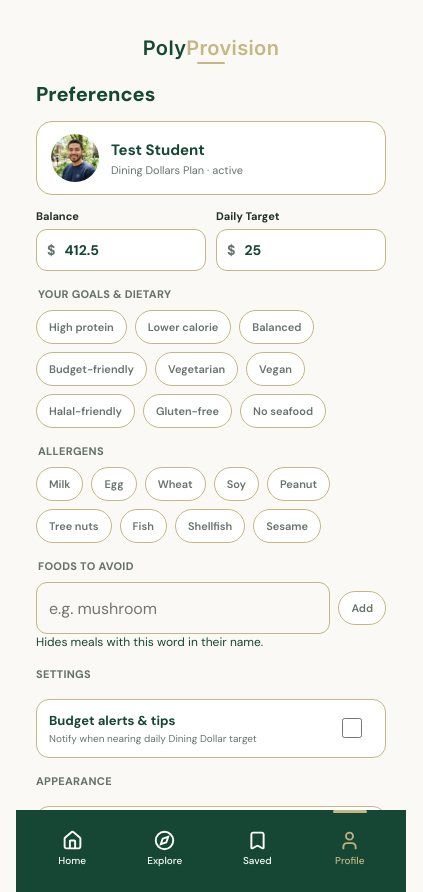
Test: ProfilePage allergens and avoided foods › shows an error and doesn't claim success when saving fails
Click the button "Soy" at [236, 484], box [214,467,259,501]
(page scrolled)
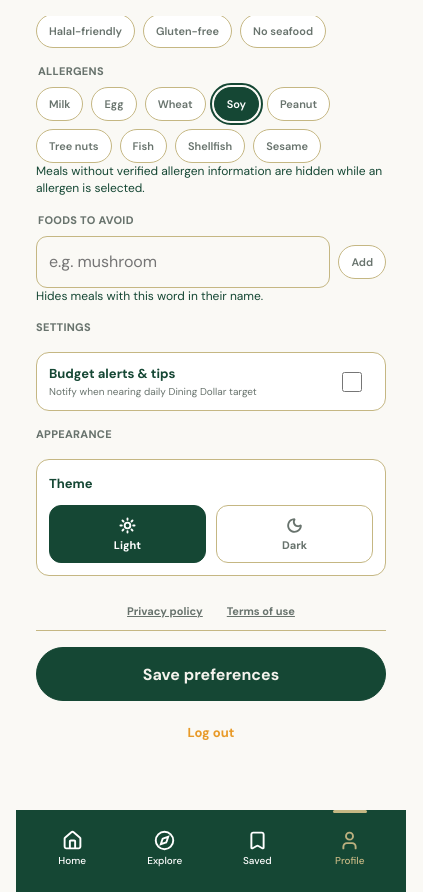
Click the button "Save preferences" at [211, 674], box [36,647,386,701]
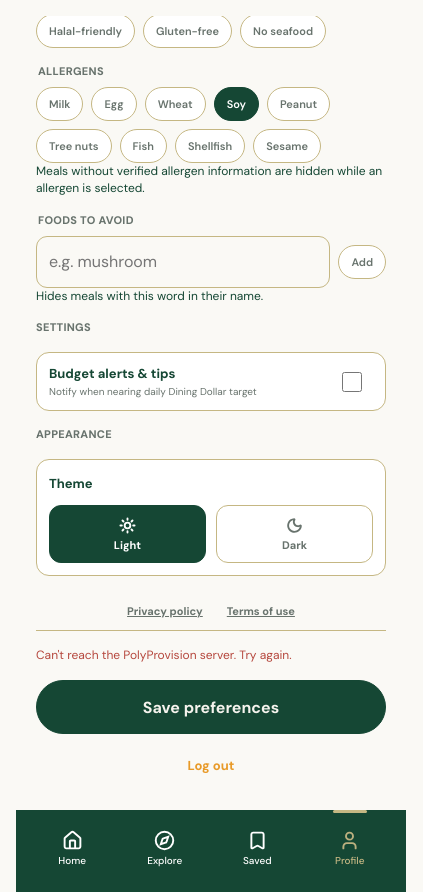
Result: the message shows "Can't reach the PolyProvision server" at [36,647,292,663]
